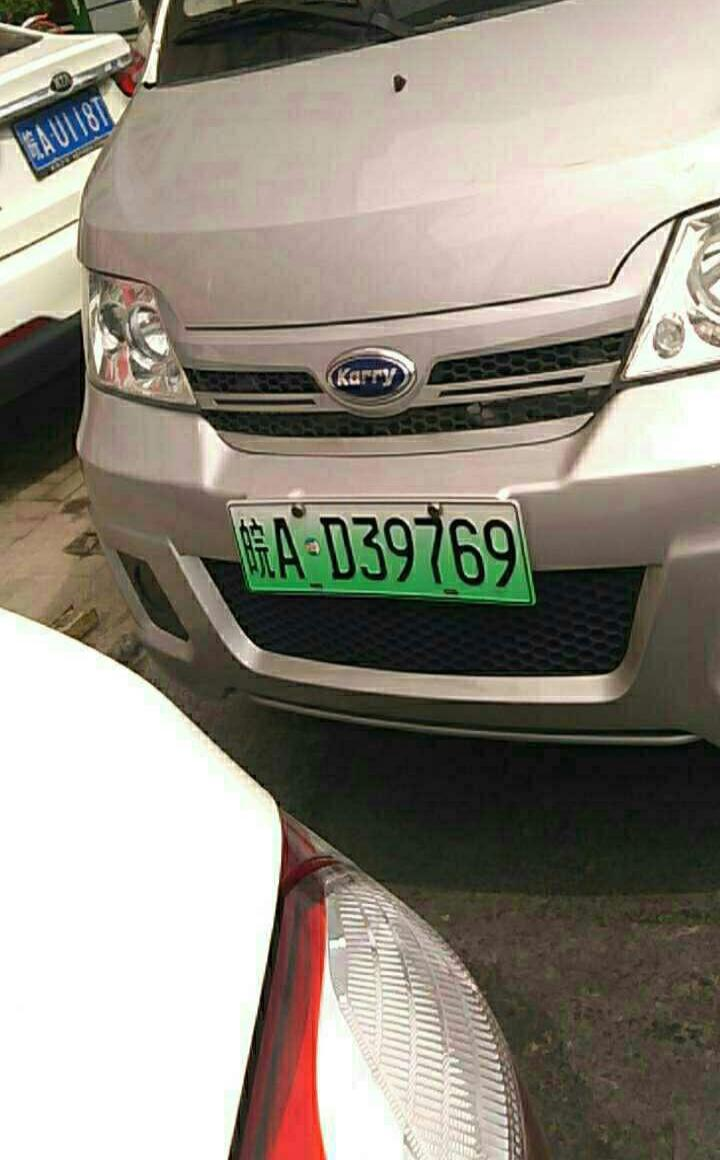car_id: (228, 501, 534, 601)
